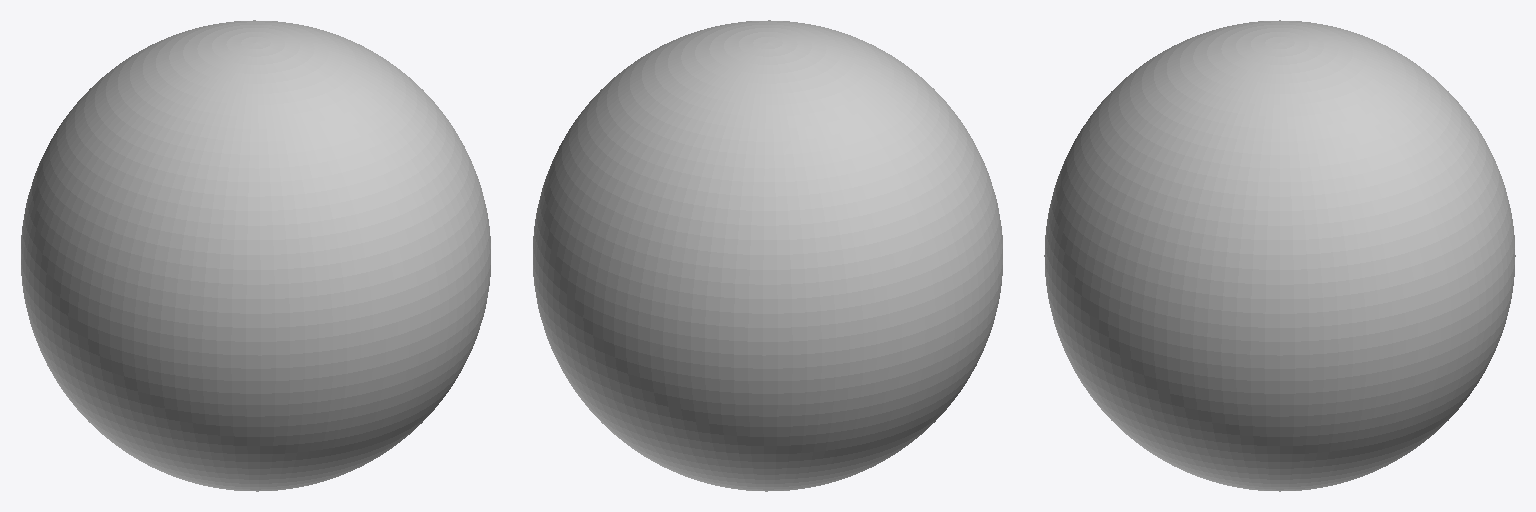
The model's file is earth.obj.
3 renders of one model, left to right at view 1: azimuth 30°, elevation 25°; view 2: azimuth 150°, elevation 25°; view 3: azimuth 270°, elevation 25°, orthographic.
Visible parts, largest first — view 1: Sphere004_Mesh.002; view 2: Sphere004_Mesh.002; view 3: Sphere004_Mesh.002.
Part boxes in pixels (x1,y1,x2,y2): Sphere004_Mesh.002: (21,20,490,491); Sphere004_Mesh.002: (533,20,1002,491); Sphere004_Mesh.002: (1044,20,1515,491).
Size of the model in its own units: 2 by 2 by 2.